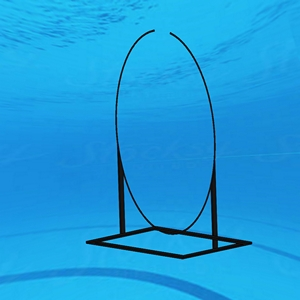circle: (86, 27, 255, 261)
